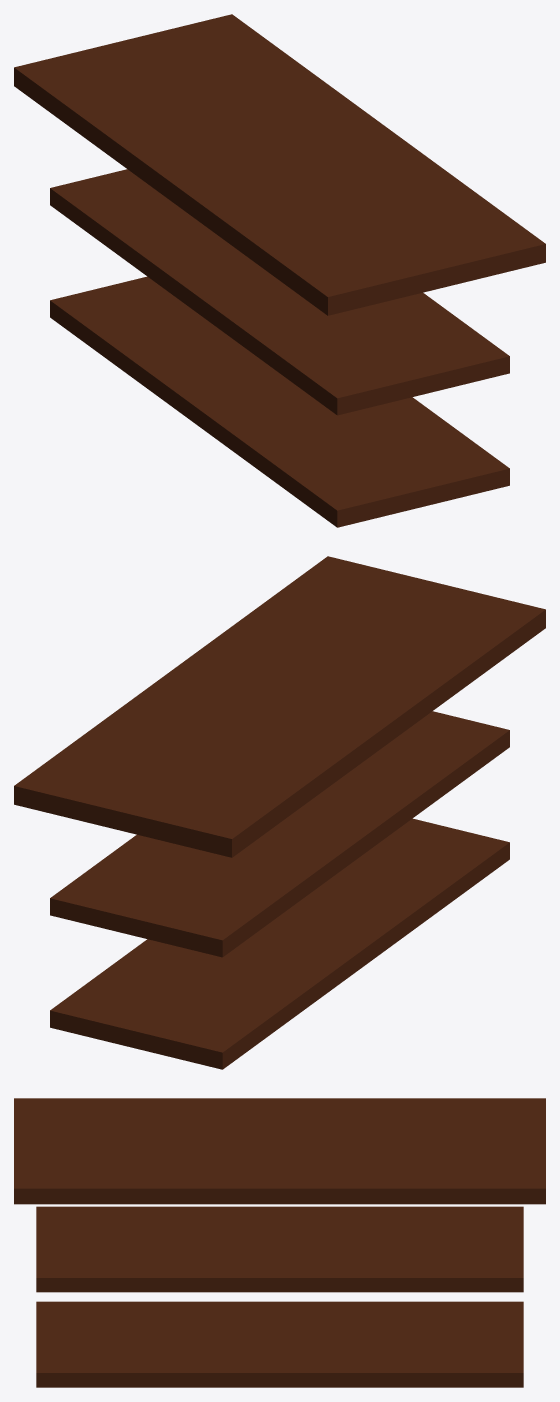
File: steel-table.lod2.glb
3 views of the same model, one above another, from view 1: azimuth 30°, elevation 25°; view 2: azimuth 150°, elevation 25°; view 3: azimuth 270°, elevation 25° (orthographic). The views are drawn at different scales.
Visible parts, largest first — view 1: defaultMaterial; view 2: defaultMaterial; view 3: defaultMaterial.
Boxes of the visible parts, box(x1,y1,x2,y2) form: defaultMaterial: box(14, 14, 545, 527); defaultMaterial: box(14, 556, 545, 1069); defaultMaterial: box(14, 1098, 545, 1387).
Bounding box in the file's own units: 0.6406 × 0.6899 × 1.6.
